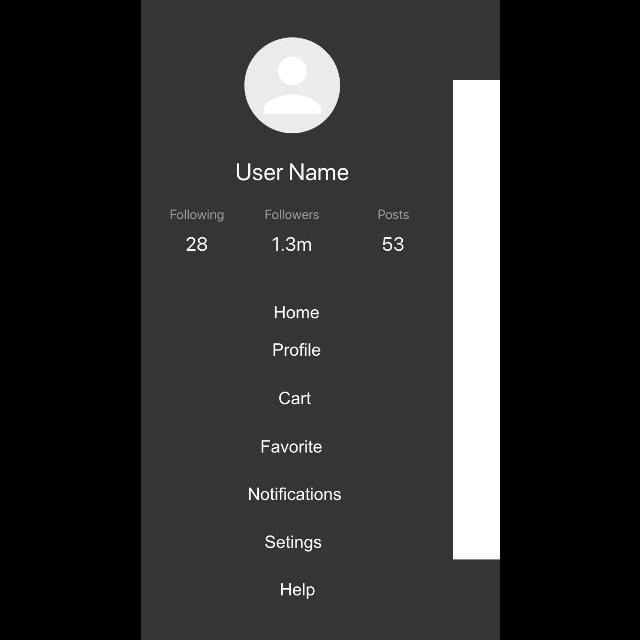icon: (242, 37, 340, 135)
panel: (141, 1, 453, 640)
text: (234, 162, 348, 182), (248, 487, 340, 501), (264, 534, 322, 552), (260, 439, 322, 453), (168, 208, 222, 222), (272, 343, 320, 357), (264, 208, 318, 220), (274, 306, 320, 320), (271, 236, 311, 252), (280, 583, 314, 599), (278, 391, 310, 405), (382, 236, 404, 252), (375, 210, 409, 220), (185, 237, 207, 251)
